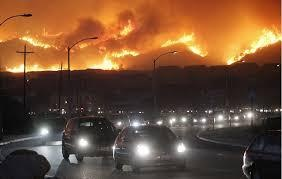fire: (223, 25, 282, 65), (159, 32, 208, 59)
